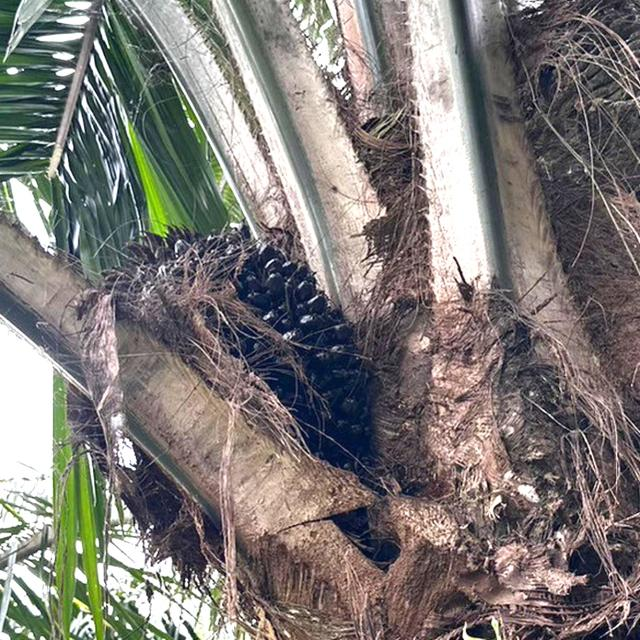unripe: (156, 211, 390, 482)
